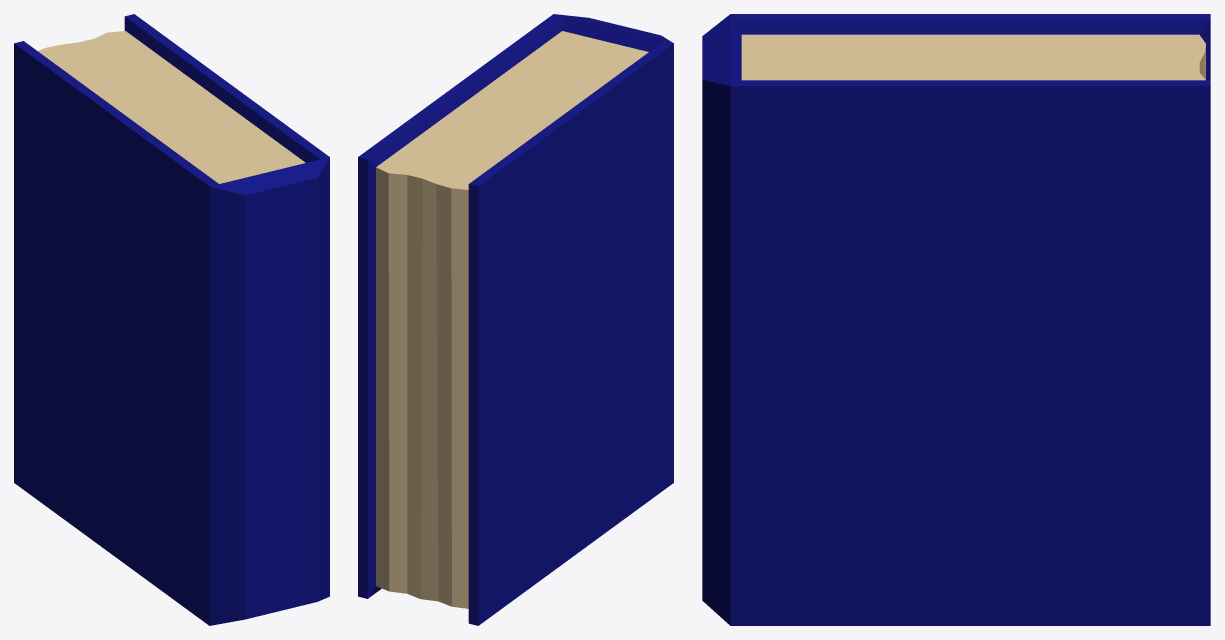
File: Book_Blue.fbx
3 views of the same model, side by side, from view 1: azimuth 30°, elevation 25°; view 2: azimuth 150°, elevation 25°; view 3: azimuth 270°, elevation 25° (orthographic). The views are drawn at different scales.
Parts seen in each view (by area): view 1: Book.011; view 2: Book.011; view 3: Book.011.
Part boxes in pixels (x1,y1,x2,y2): Book.011: [14, 14, 329, 625]; Book.011: [358, 14, 673, 625]; Book.011: [702, 14, 1210, 625].
Size of the model in its own units: 23.95 by 83.59 by 71.37.
